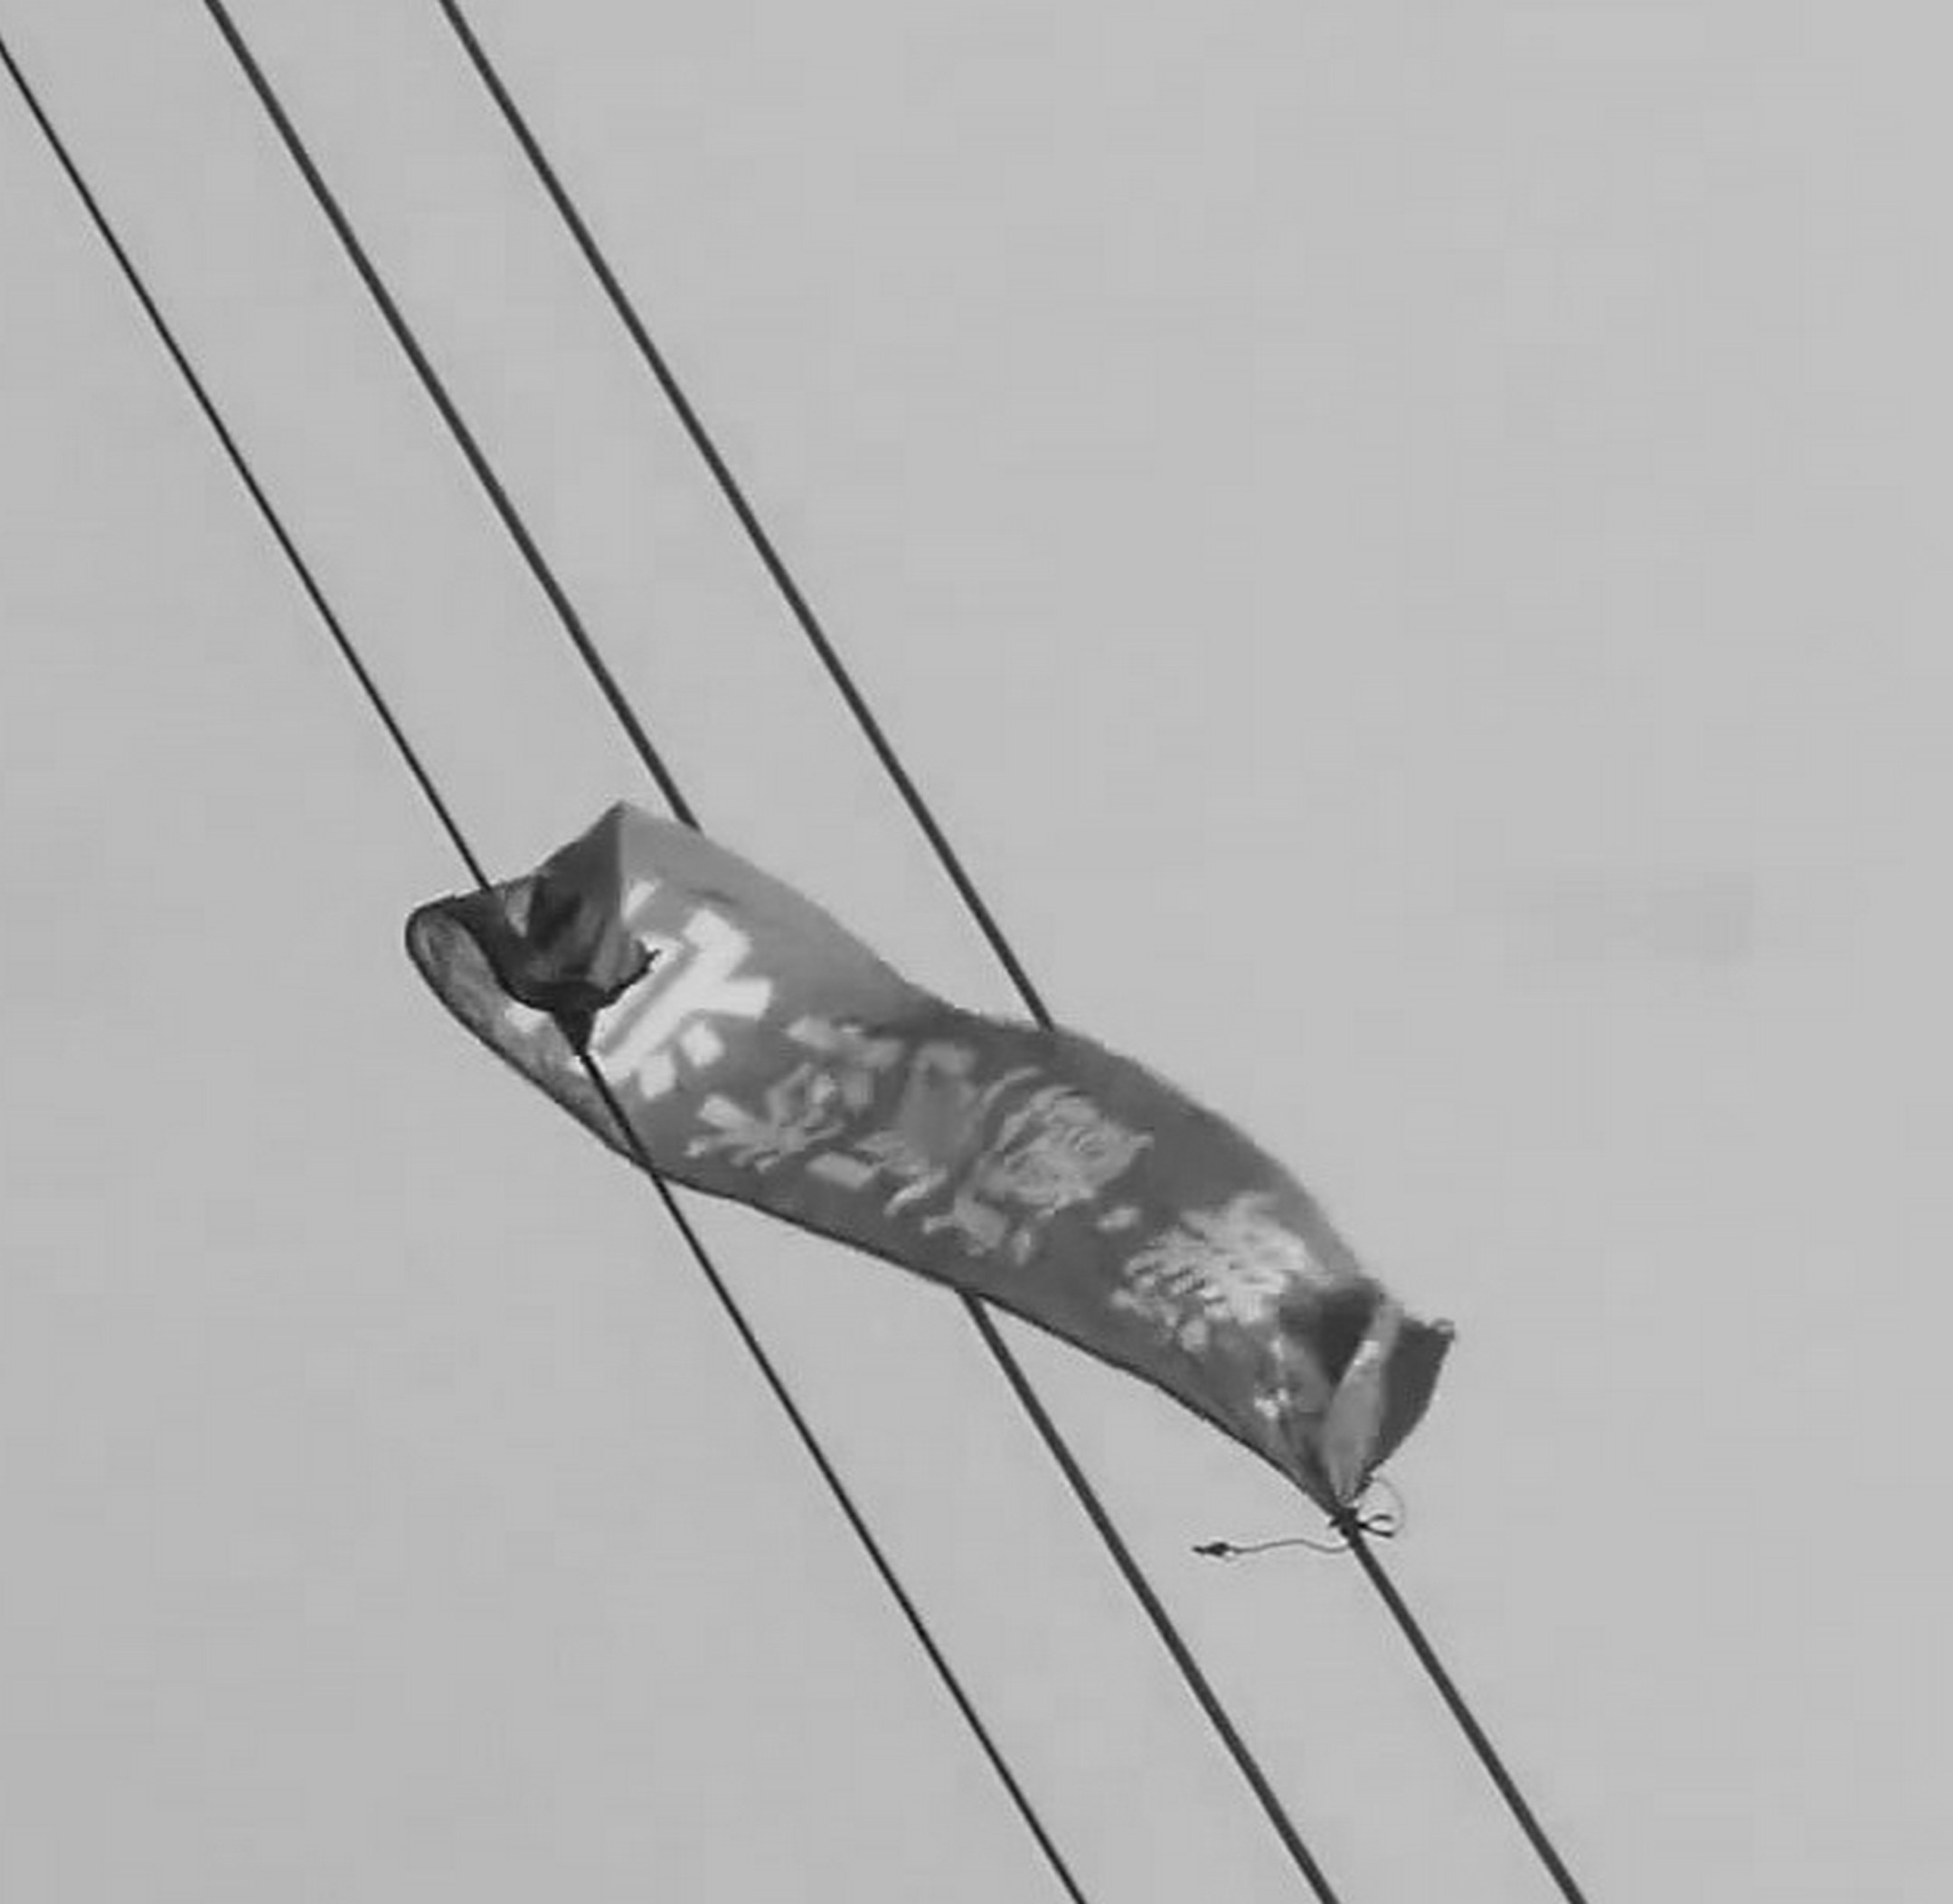wire foreign body: (357, 769, 1526, 1557)
